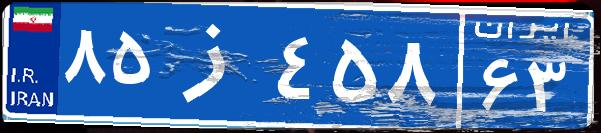3: (525, 38, 570, 115)
4: (273, 28, 330, 110)
5: (330, 28, 385, 110), (110, 28, 158, 105)
6: (475, 38, 525, 113)
8: (385, 28, 445, 110), (57, 26, 110, 107)
ز: (158, 15, 273, 115)
